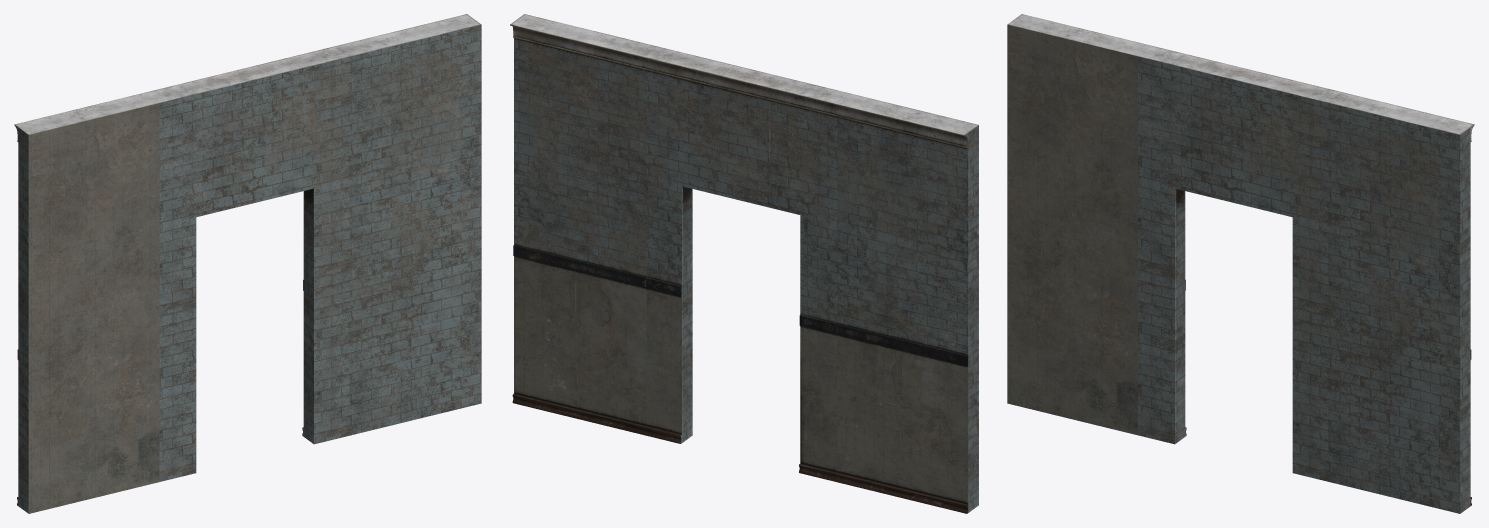
The model's file is walldoor.glb.
The picture shows the model from 3 angles, left to right: view 1: azimuth 30°, elevation 25°; view 2: azimuth 150°, elevation 25°; view 3: azimuth 330°, elevation 25°; orthographic projection.
Visible parts, largest first — view 1: 04_04_0; view 2: 04_04_0; view 3: 04_04_0.
Boxes of the visible parts, x1,y1,x2,y2 form: 04_04_0: (14, 14, 481, 513); 04_04_0: (510, 14, 978, 513); 04_04_0: (1007, 14, 1474, 513).
Size of the model in its own units: 5 by 4 by 0.275.
Materials: 1 (1 with a texture image).
